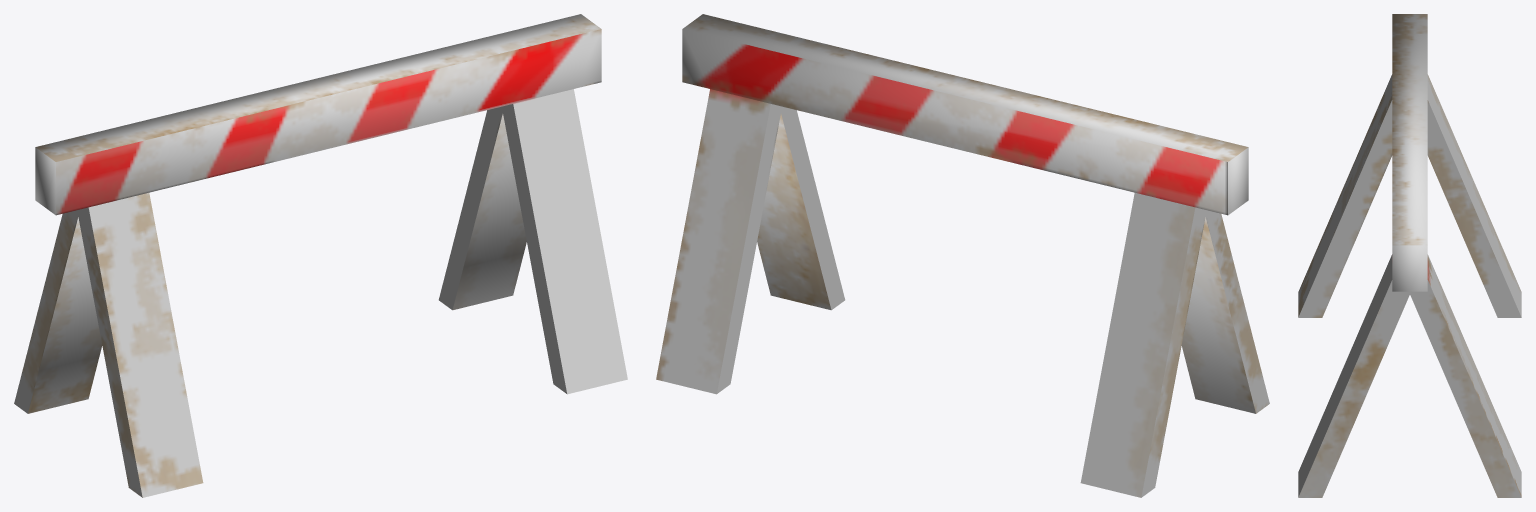
Rendered from Shield_01.FBX.
The picture shows the model from 3 angles, left to right: view 1: azimuth 30°, elevation 25°; view 2: azimuth 150°, elevation 25°; view 3: azimuth 270°, elevation 25°; orthographic projection. The views are drawn at different scales.
Visible parts, largest first — view 1: Box026, Box025; view 2: Box026, Box025; view 3: Box026, Box025.
Boxes of the visible parts, x1,y1,x2,y2 form: Box026: [35, 14, 627, 394]; Box025: [14, 192, 203, 497]; Box026: [656, 14, 1248, 394]; Box025: [1080, 192, 1269, 497]; Box026: [1298, 14, 1521, 497]; Box025: [1298, 74, 1521, 317].
Bounding box in the file's own units: 180 × 96.14 × 73.69.
